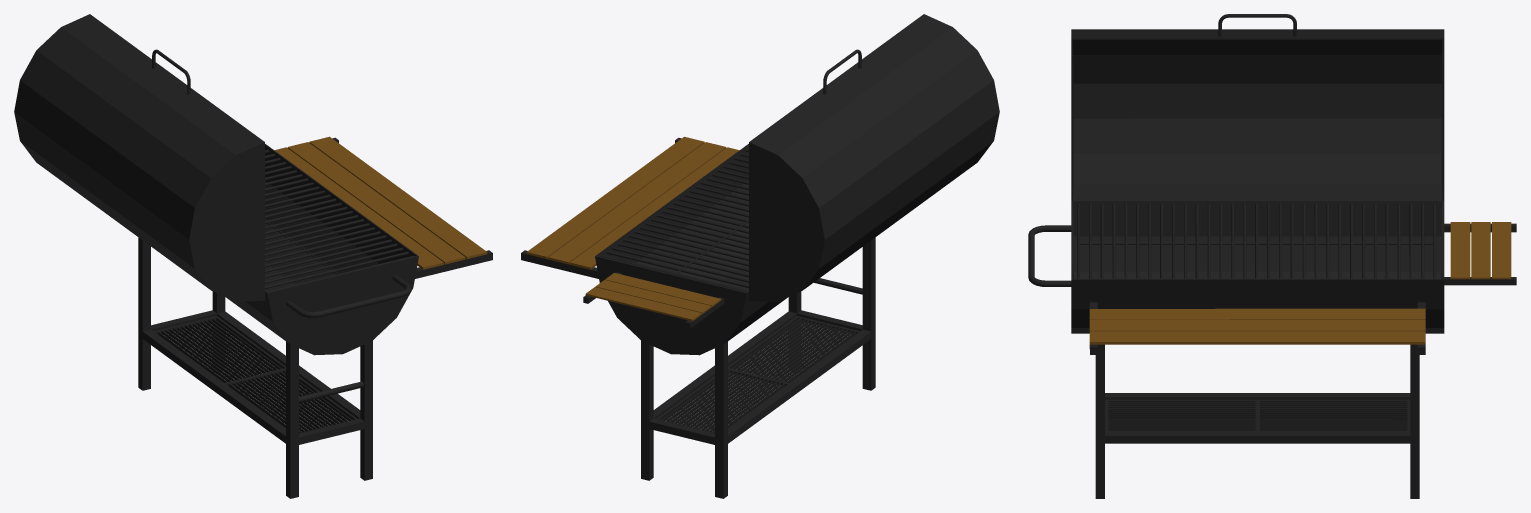
Rendered from Grill.fbx.
3 renders of one model, left to right at view 1: azimuth 30°, elevation 25°; view 2: azimuth 150°, elevation 25°; view 3: azimuth 270°, elevation 25°, orthographic. The views are drawn at different scales.
Parts seen in each view (by area): view 1: Grill; view 2: Grill; view 3: Grill.
Boxes of the visible parts, box(x1,y1,x2,y2) form: Grill: box(14, 14, 492, 498); Grill: box(521, 14, 999, 498); Grill: box(1028, 14, 1516, 498).
Size of the model in its own units: 195 by 154 by 185.
